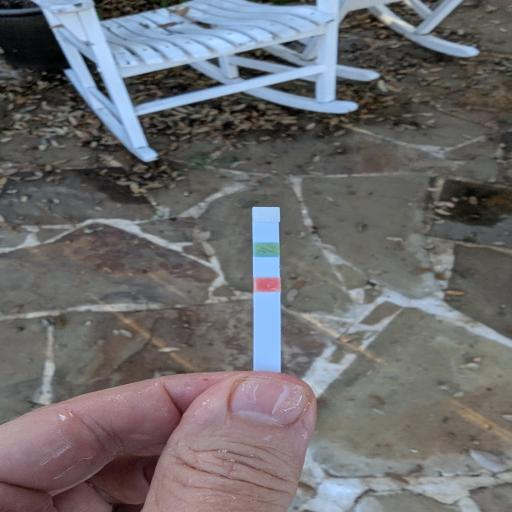strip: (251, 207, 281, 373)
